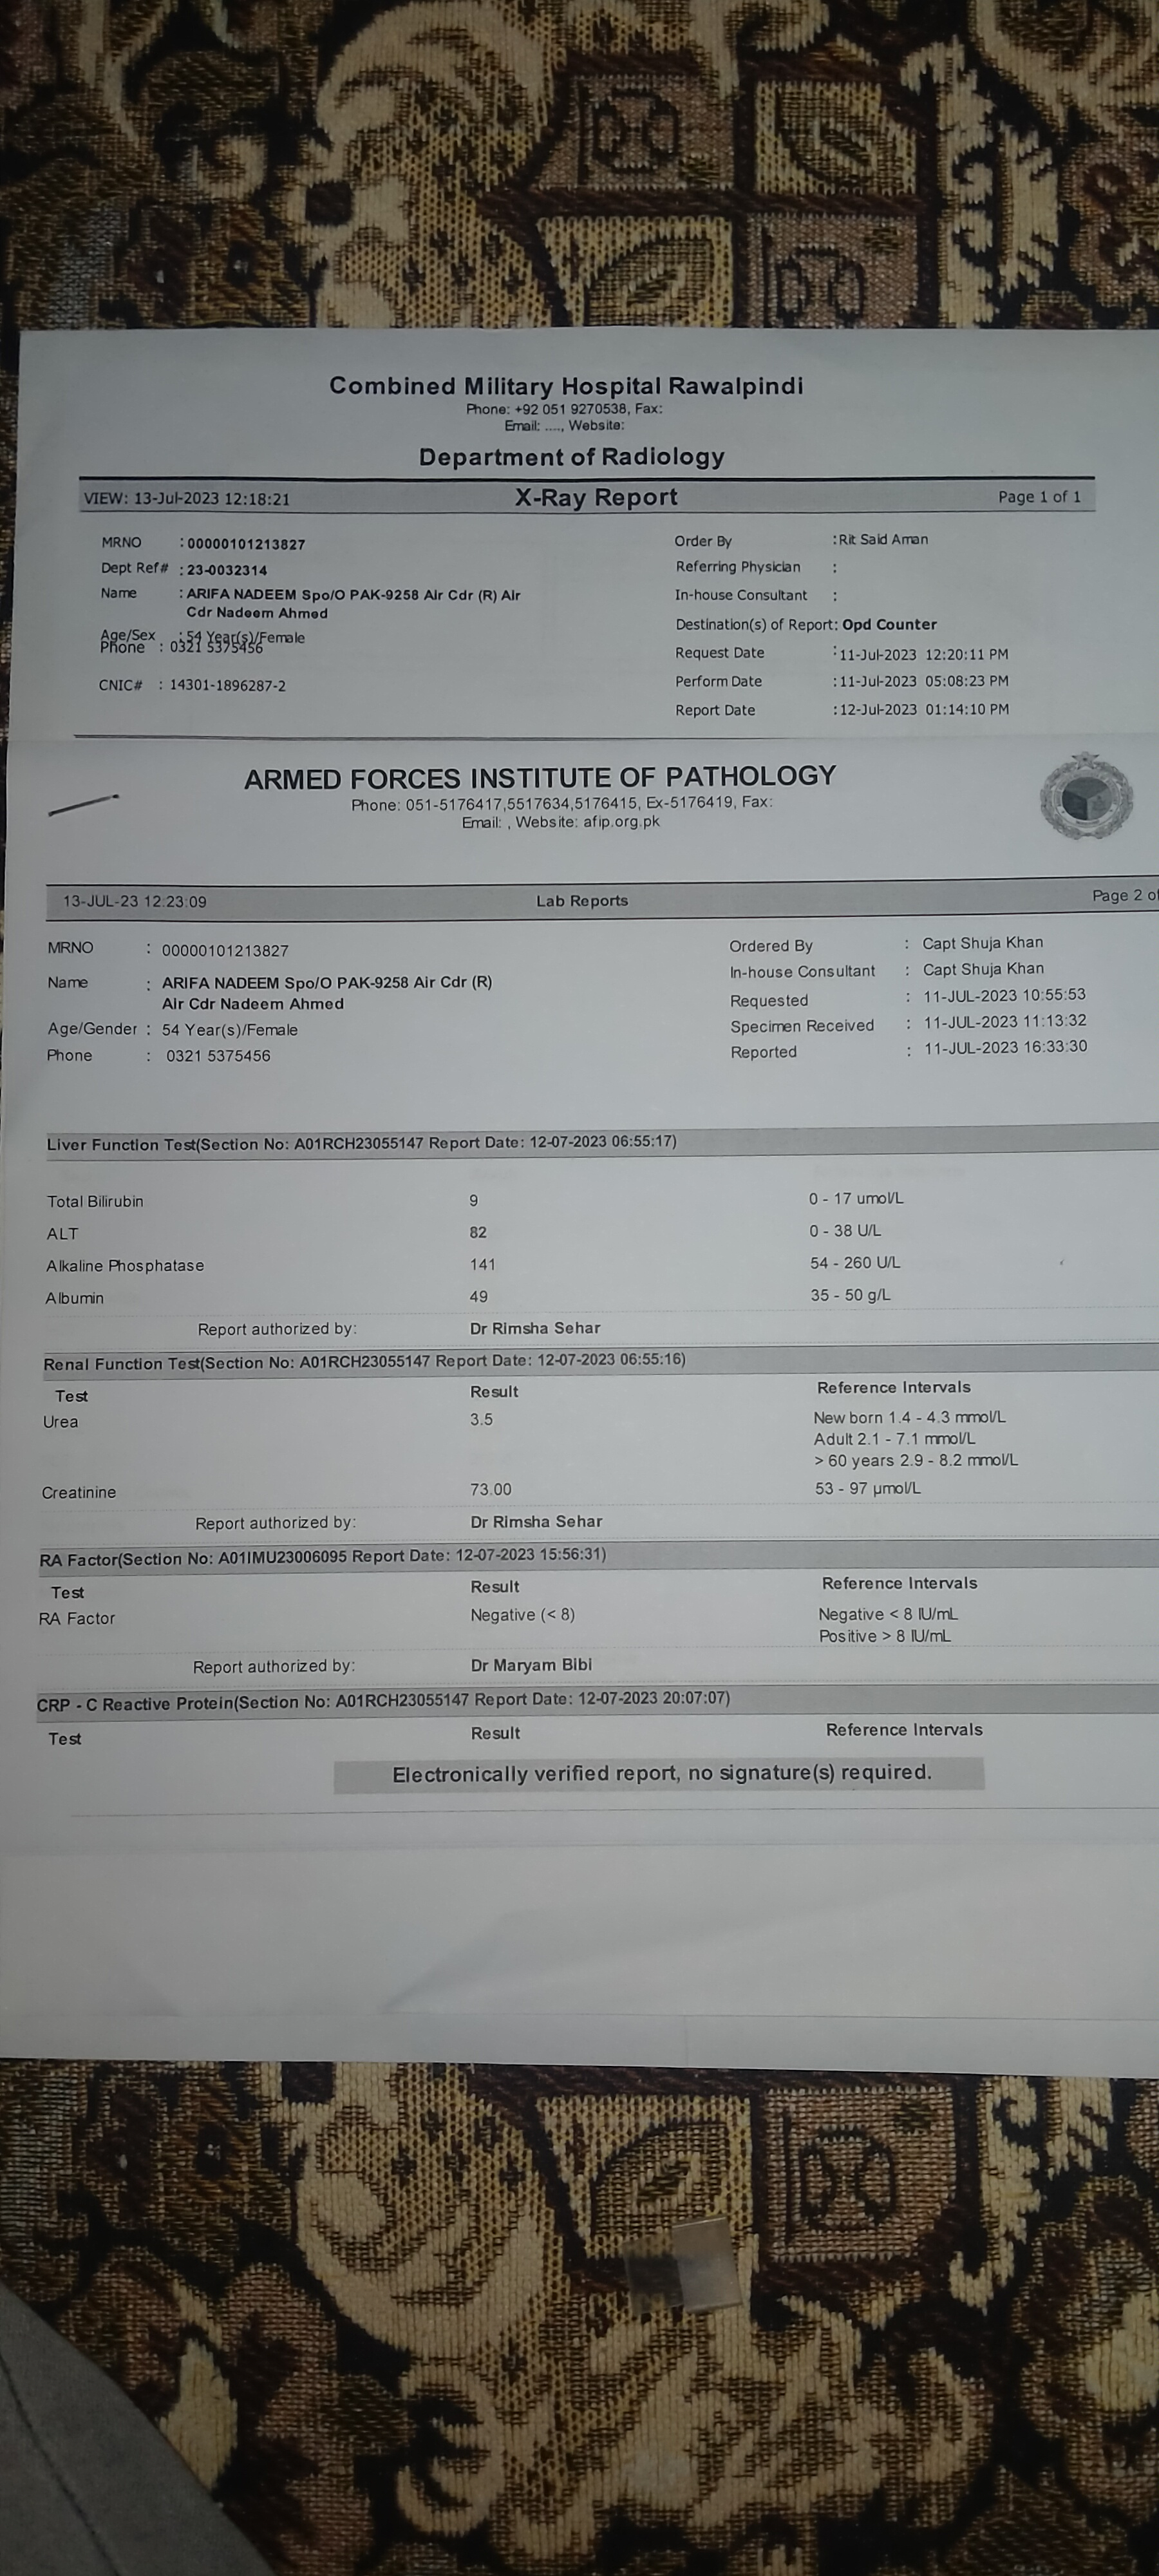report: (36, 1112, 1157, 1815)
